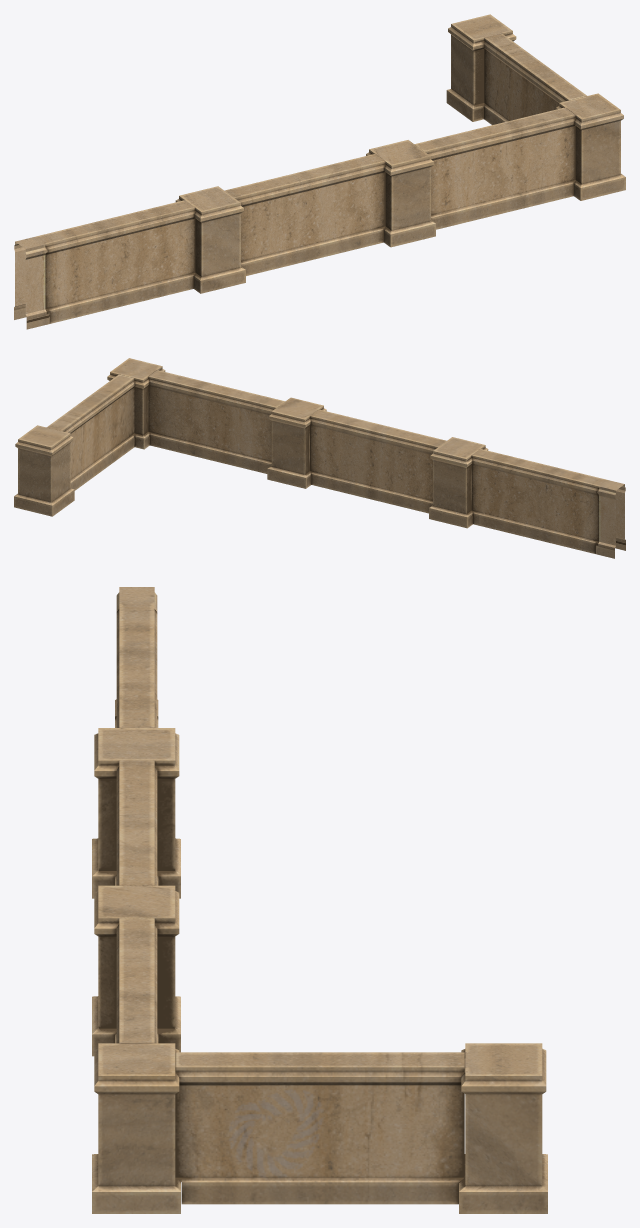
File: SM_Tus_Muret_LP9.fbx
3 views of the same model, one above another, from view 1: azimuth 30°, elevation 25°; view 2: azimuth 150°, elevation 25°; view 3: azimuth 270°, elevation 25° (orthographic). The views are drawn at different scales.
Visible parts, largest first — view 1: SM_Tus_Muret_LP9; view 2: SM_Tus_Muret_LP9; view 3: SM_Tus_Muret_LP9.
Boxes of the visible parts, x1,y1,x2,y2 form: SM_Tus_Muret_LP9: (14,14,625,329); SM_Tus_Muret_LP9: (14,358,625,558); SM_Tus_Muret_LP9: (92,587,547,1213).
Bounding box in the file's own units: 3.9 × 0.5 × 1.53.
1 material, 1 textured.
